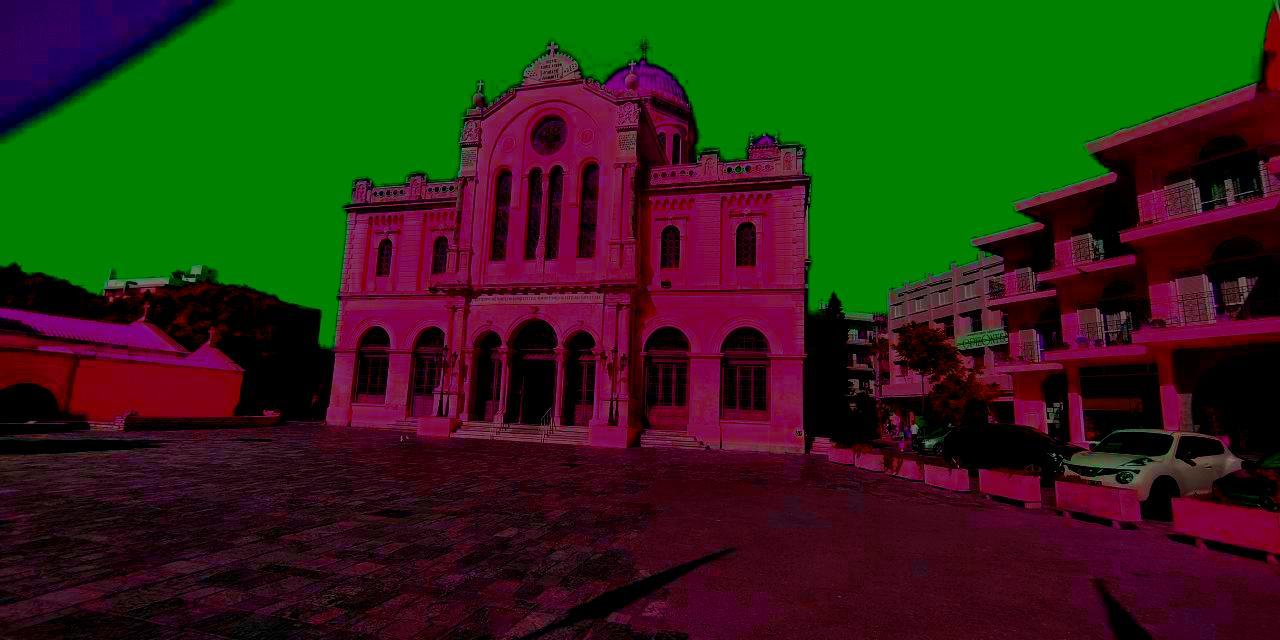Agios Minas: (325, 35, 810, 455)
